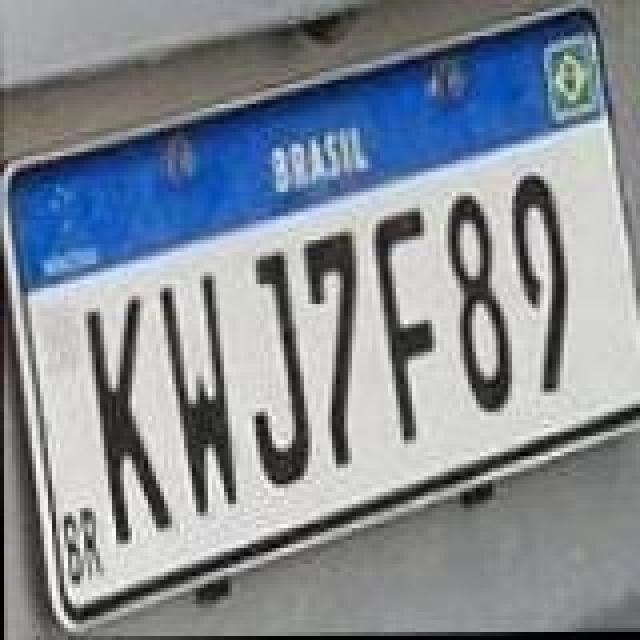7: (302, 228, 358, 468)
8: (446, 196, 510, 416)
9: (508, 170, 568, 394)
F: (370, 208, 434, 448)
J: (252, 252, 312, 492)
K: (86, 296, 174, 548)
W: (160, 276, 236, 520)
